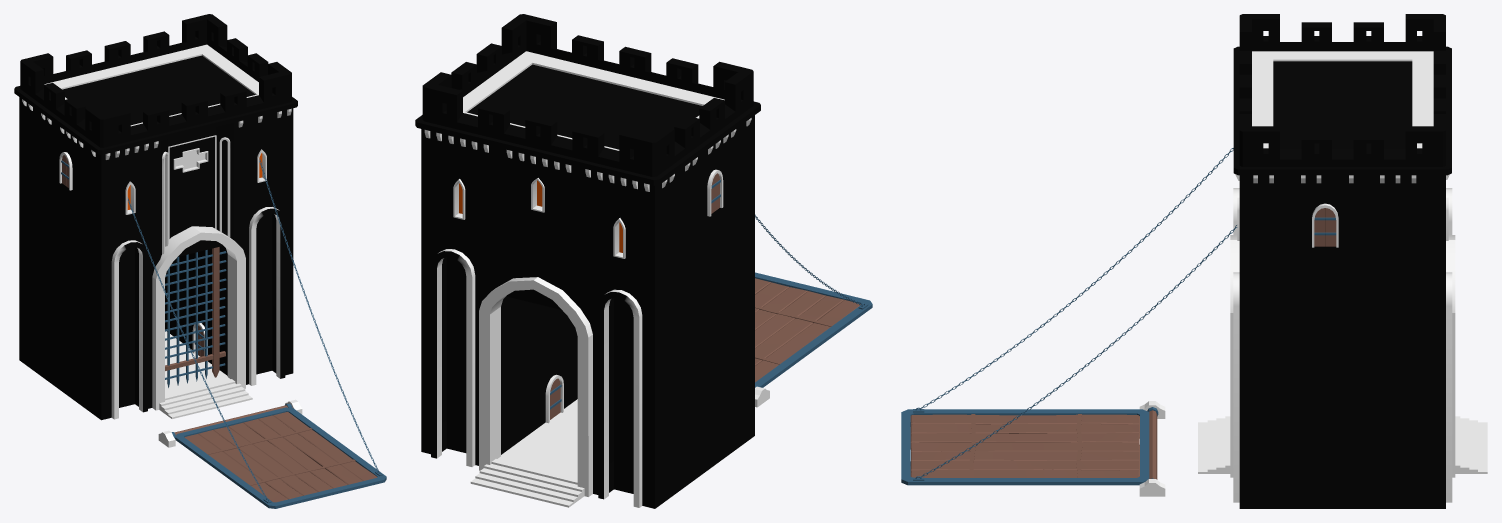
File: gata_a.fbx
3 renders of one model, left to right at view 1: azimuth 30°, elevation 25°; view 2: azimuth 150°, elevation 25°; view 3: azimuth 270°, elevation 25°, orthographic. The views are drawn at different scales.
Parts seen in each view (by area): view 1: castle_gate_a, castle_gate_a.001; view 2: castle_gate_a; view 3: castle_gate_a.
Part boxes in pixels (<box>): castle_gate_a: <box>14,14,386,508</box>; castle_gate_a.001: <box>165,247,226,387</box>; castle_gate_a: <box>415,14,872,508</box>; castle_gate_a: <box>901,14,1487,508</box>.
Size of the model in its own units: 18.03 by 26.24 by 36.36.
